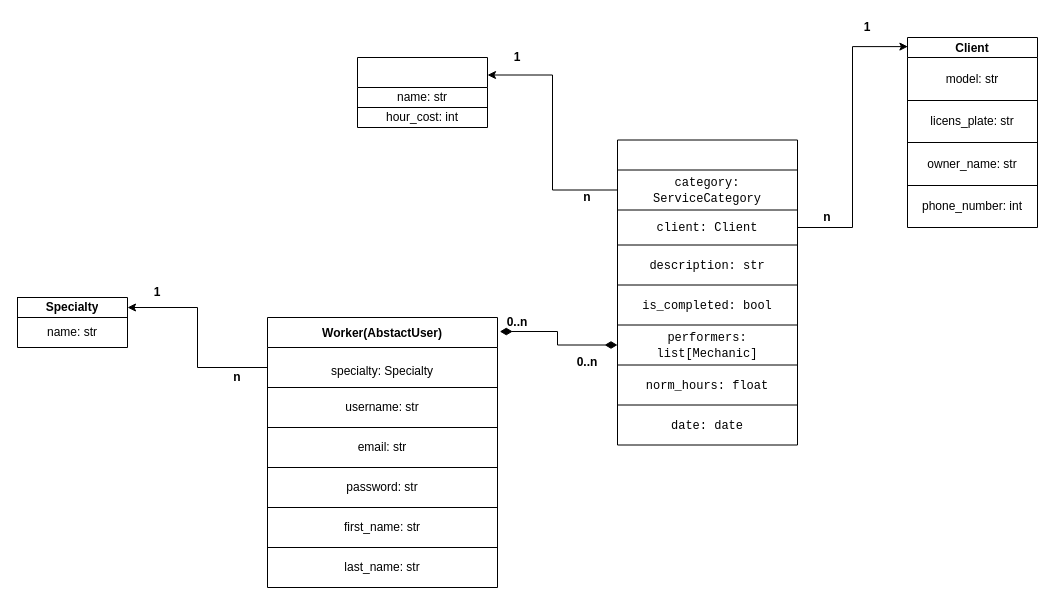
Image size: 1055x605. Some labels were removed from this diagram. The shapes that lost their labels are listed below. From the top down, each one's box as (x1, y1, x2, y2) in pixels, then its label:
(356, 56, 488, 128): ServiceCategory
(616, 139, 798, 445): Order
